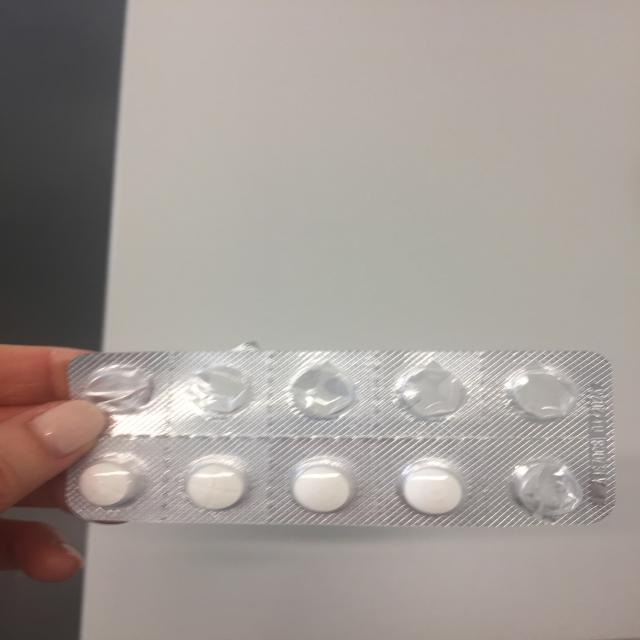Empty: (501, 456, 591, 519), (390, 362, 477, 426), (495, 363, 582, 422), (74, 359, 164, 416), (282, 359, 361, 422), (178, 364, 259, 422)
Pill: (285, 454, 361, 517), (175, 458, 256, 517), (395, 459, 472, 516), (73, 455, 149, 511)
